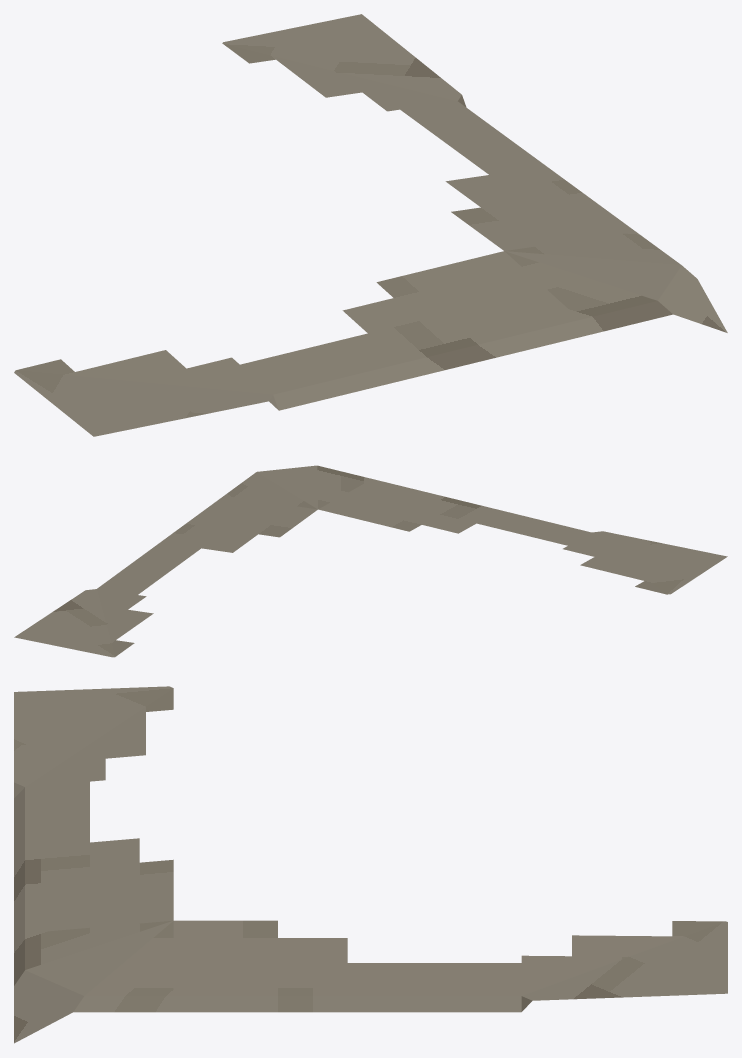
3 views of the same model, one above another, from view 1: azimuth 30°, elevation 25°; view 2: azimuth 150°, elevation 25°; view 3: azimuth 270°, elevation 25° (orthographic). The views are drawn at different scales.
Size of the model in its own units: 1 by 0.0857 by 1.
1 material, 1 textured.
